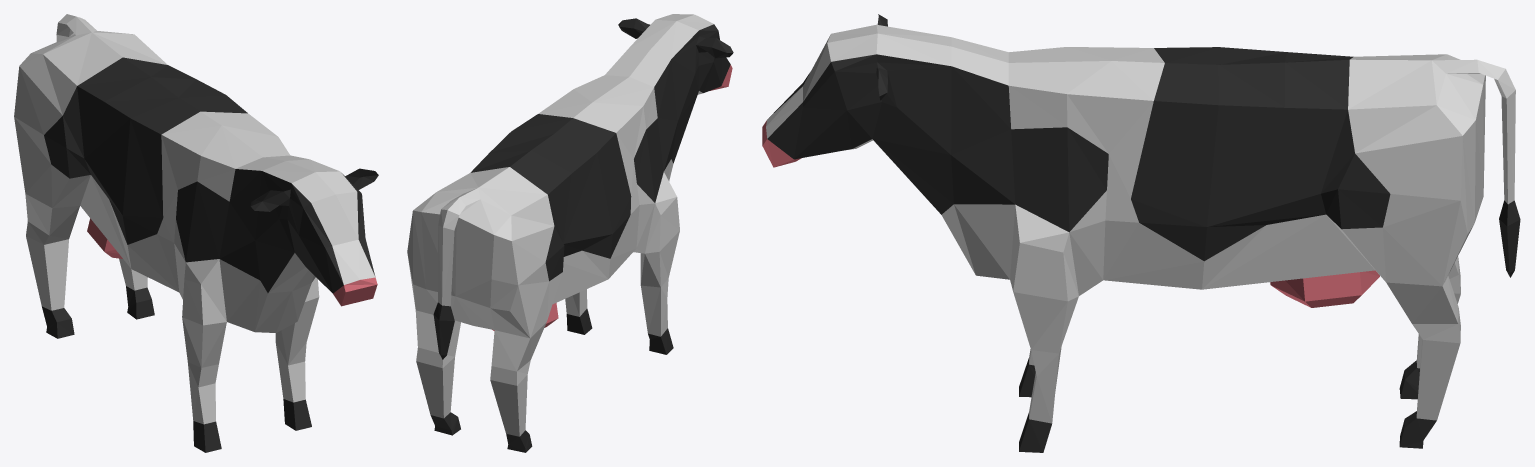
File: cow.glb
3 renders of one model, left to right at view 1: azimuth 30°, elevation 25°; view 2: azimuth 150°, elevation 25°; view 3: azimuth 270°, elevation 25°, orthographic. The views are drawn at different scales.
Visible parts, largest first — view 1: Cow_baked; view 2: Cow_baked; view 3: Cow_baked.
Boxes of the visible parts, x1,y1,x2,y2 form: Cow_baked: [14, 14, 378, 452]; Cow_baked: [407, 14, 733, 452]; Cow_baked: [762, 14, 1520, 452].
Bounding box in the file's own units: 2.27 × 5.15 × 9.16.
